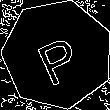P_NW: (30, 24, 85, 85)
